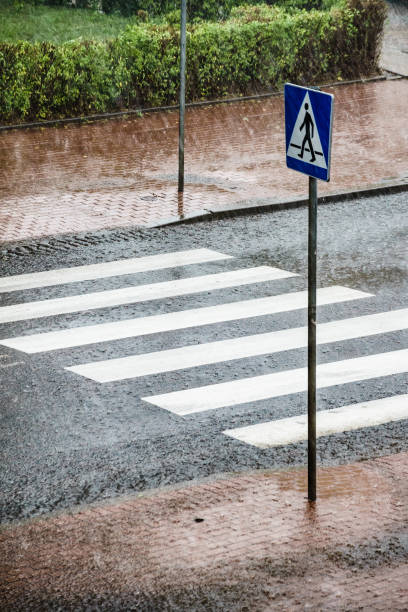yaya_gecidi_levha: (280, 84, 344, 188)
